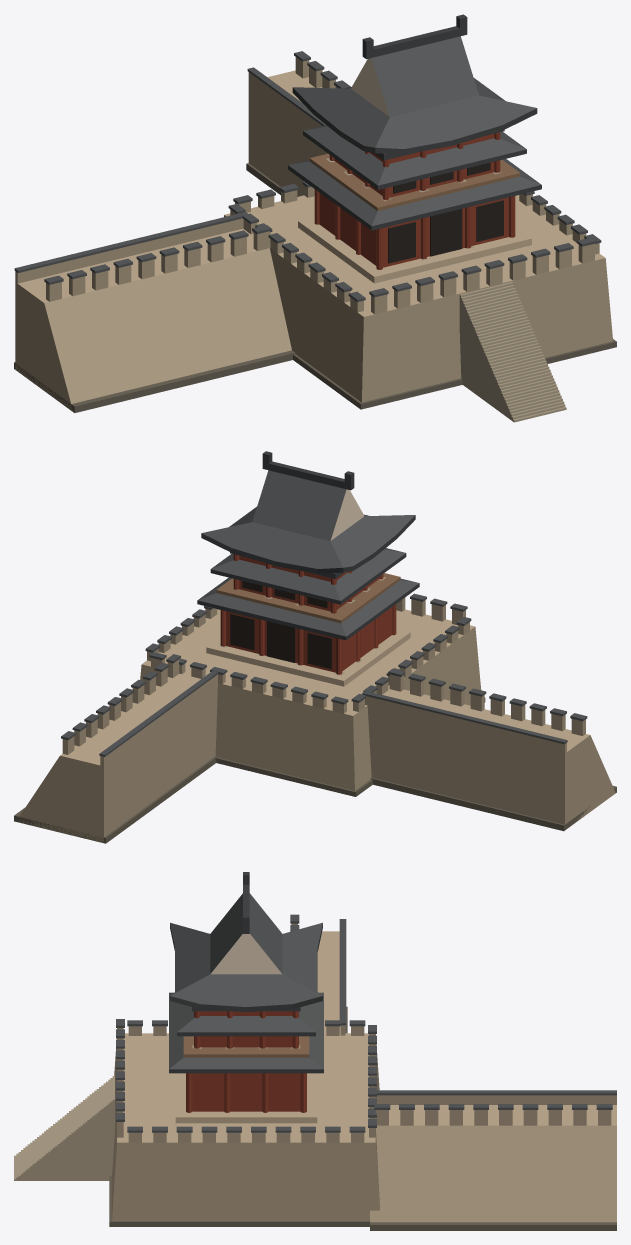
The model's file is X04_far.glb.
The picture shows the model from 3 angles, top to bottom: view 1: azimuth 30°, elevation 25°; view 2: azimuth 150°, elevation 25°; view 3: azimuth 270°, elevation 25°; orthographic projection. The views are drawn at different scales.
Parts seen in each view (by area): view 1: X04_far; view 2: X04_far; view 3: X04_far.
Part boxes in pixels (x1=…): X04_far: x1=14, y1=14, x2=616, y2=422; X04_far: x1=14, y1=451, x2=616, y2=843; X04_far: x1=14, y1=872, x2=616, y2=1230.
Size of the model in its own units: 46 by 26.96 by 53.7.
